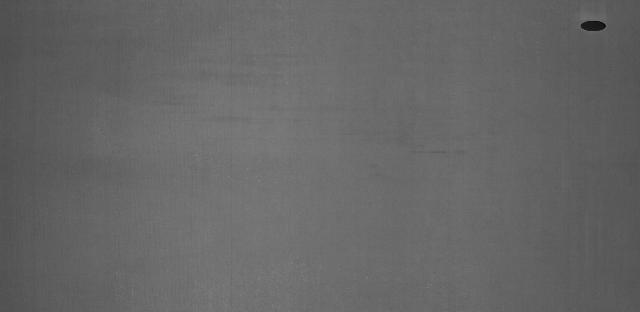punching_hole: (576, 15, 609, 34)
